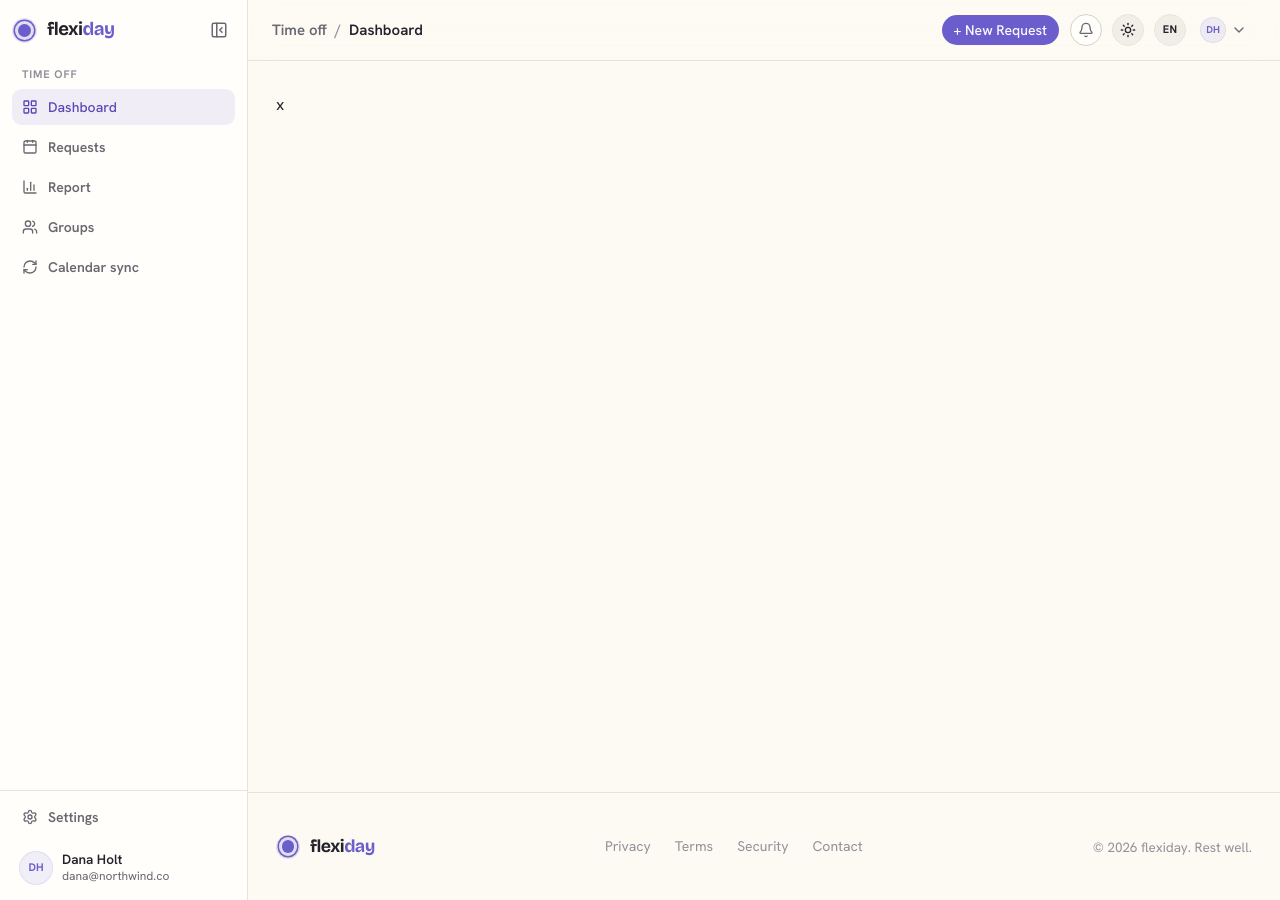
AppShell › sidebar › collapses and expands from the header button
Click the button named "Collapse sidebar" at (219,30), box [203,14,235,46]
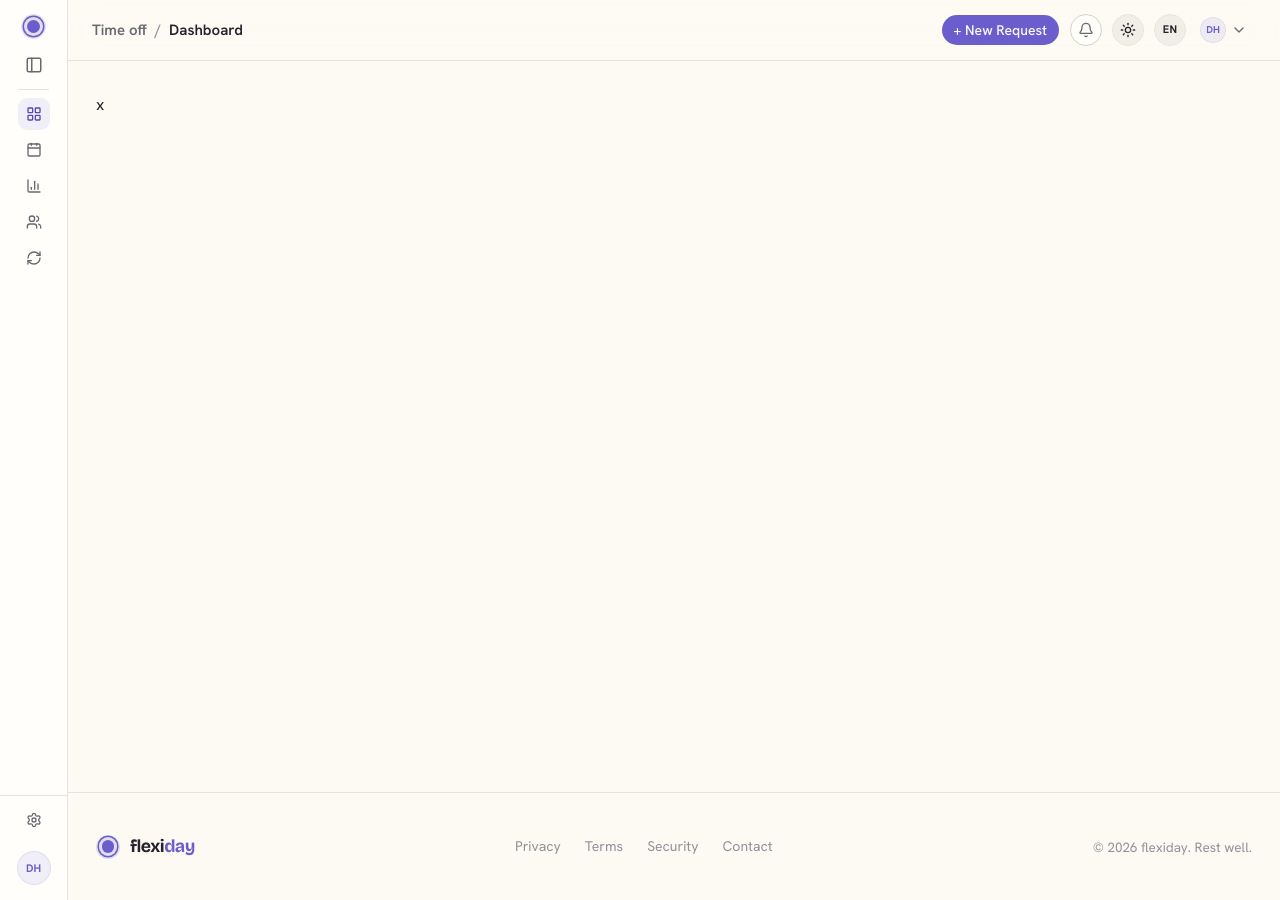
Expected: the button named "Expand sidebar" is shown, [18,49,50,81]
